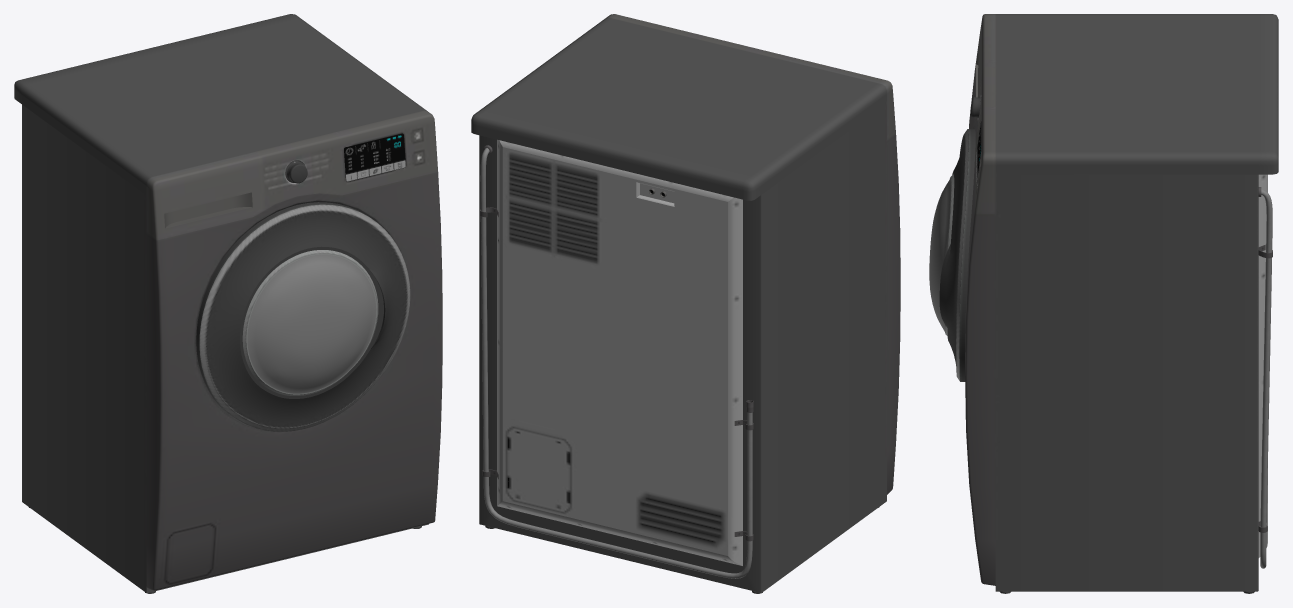
File: glb.glb
3 views of the same model, side by side, from view 1: azimuth 30°, elevation 25°; view 2: azimuth 150°, elevation 25°; view 3: azimuth 270°, elevation 25° (orthographic). The views are drawn at different scales.
Visible parts, largest first — view 1: modern_washing_machine; view 2: modern_washing_machine; view 3: modern_washing_machine.
Boxes of the visible parts, x1,y1,x2,y2 form: modern_washing_machine: (14,14,442,593); modern_washing_machine: (471,14,900,593); modern_washing_machine: (929,14,1278,593).
Bounding box in the file's own units: 0.6 × 0.8501 × 0.6126.
Materials: 1 (1 with a texture image).
